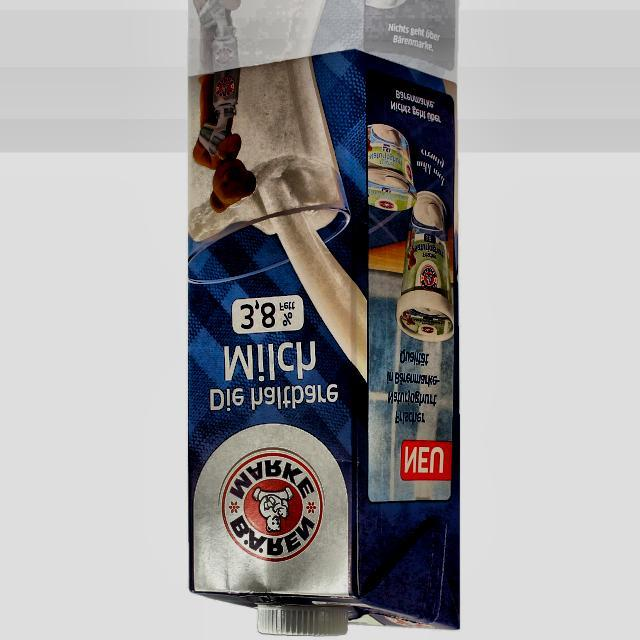cardboard: (187, 48, 460, 636)
